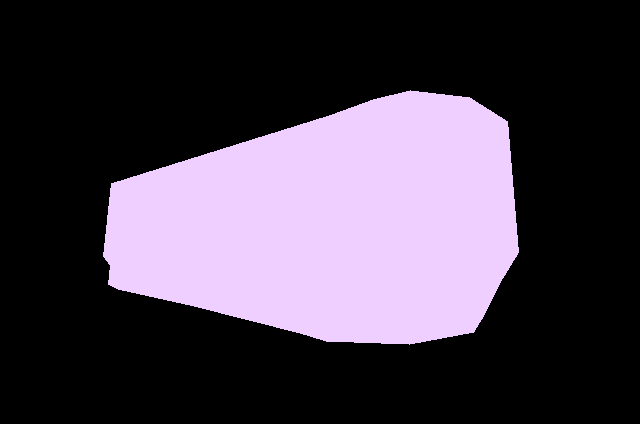Train: (103, 90, 518, 344)
